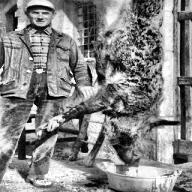boar: (37, 0, 180, 166)
